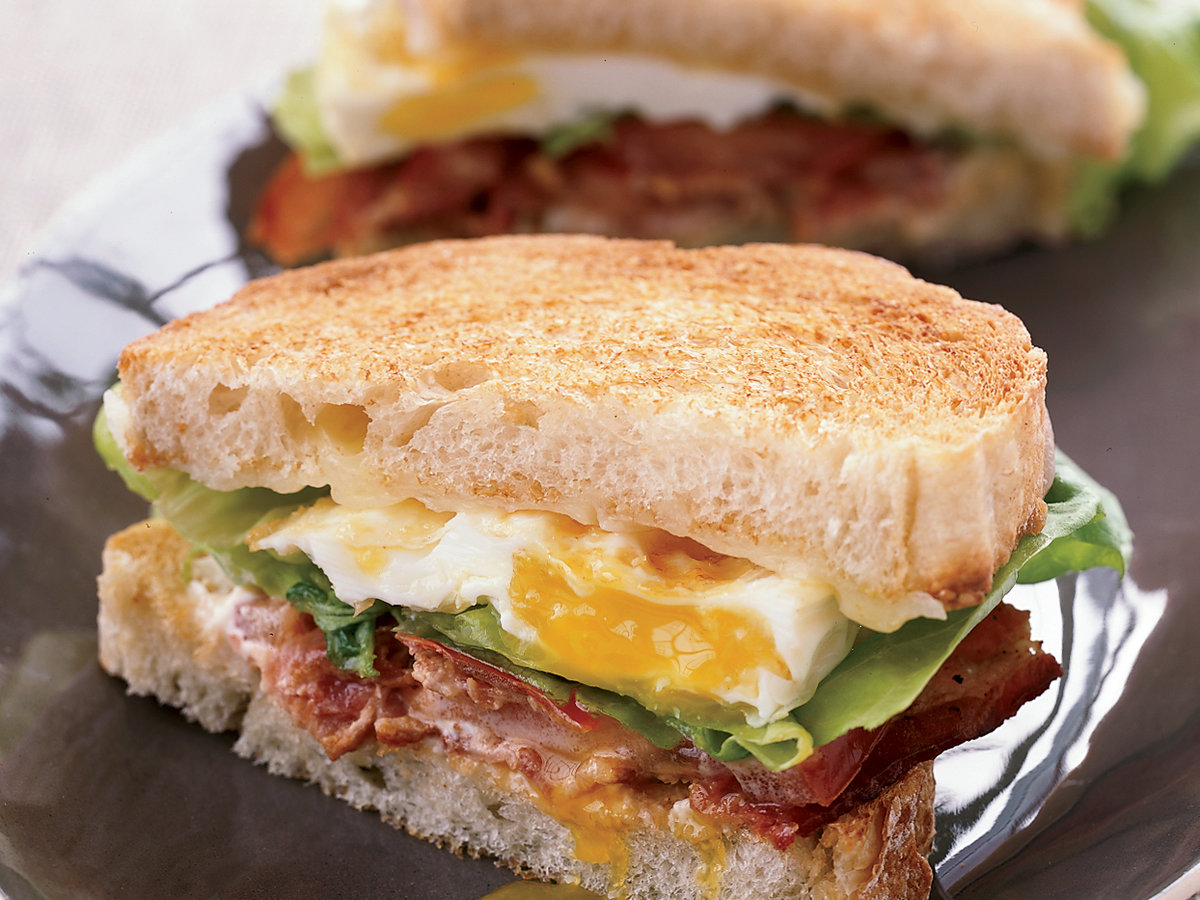fried egg: (247, 488, 885, 749)
slice of bread: (105, 214, 1063, 595), (68, 573, 914, 877)
